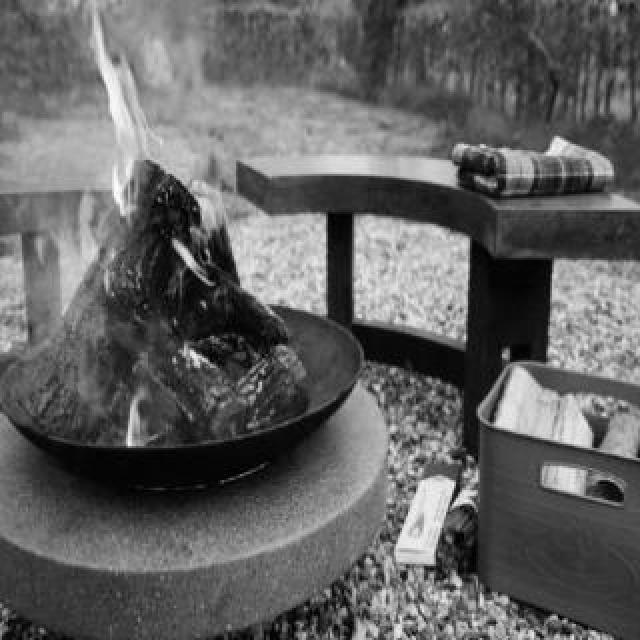smoke: (8, 198, 120, 432)
zfire: (92, 34, 154, 208), (116, 364, 158, 462)
